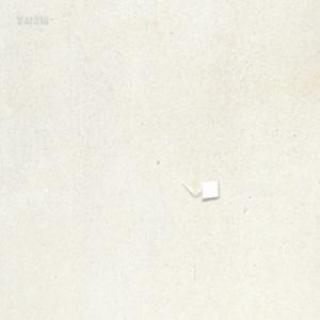LuggageTagtrack_idkeyframe: (180, 178, 218, 201)
